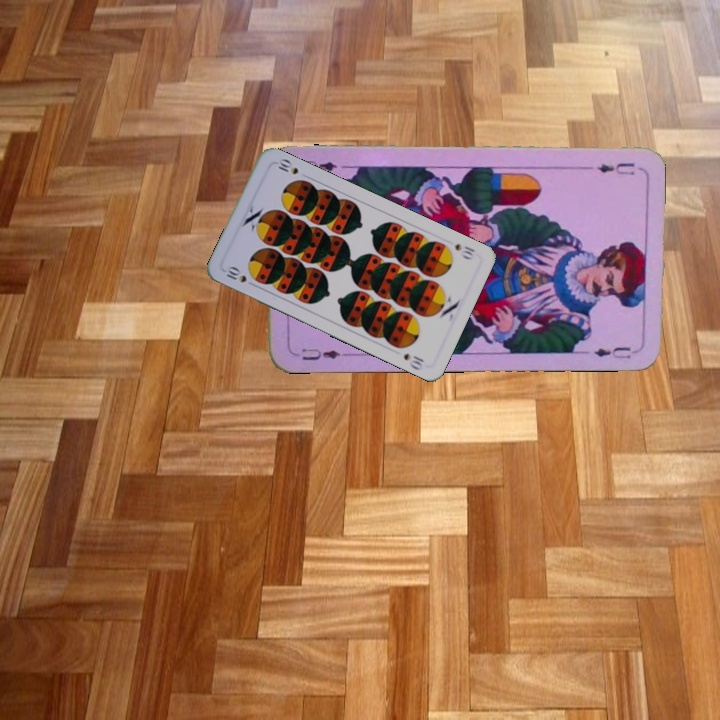EU: (297, 344, 350, 363), (593, 158, 637, 176)
S10: (222, 263, 258, 289), (451, 239, 478, 262)
